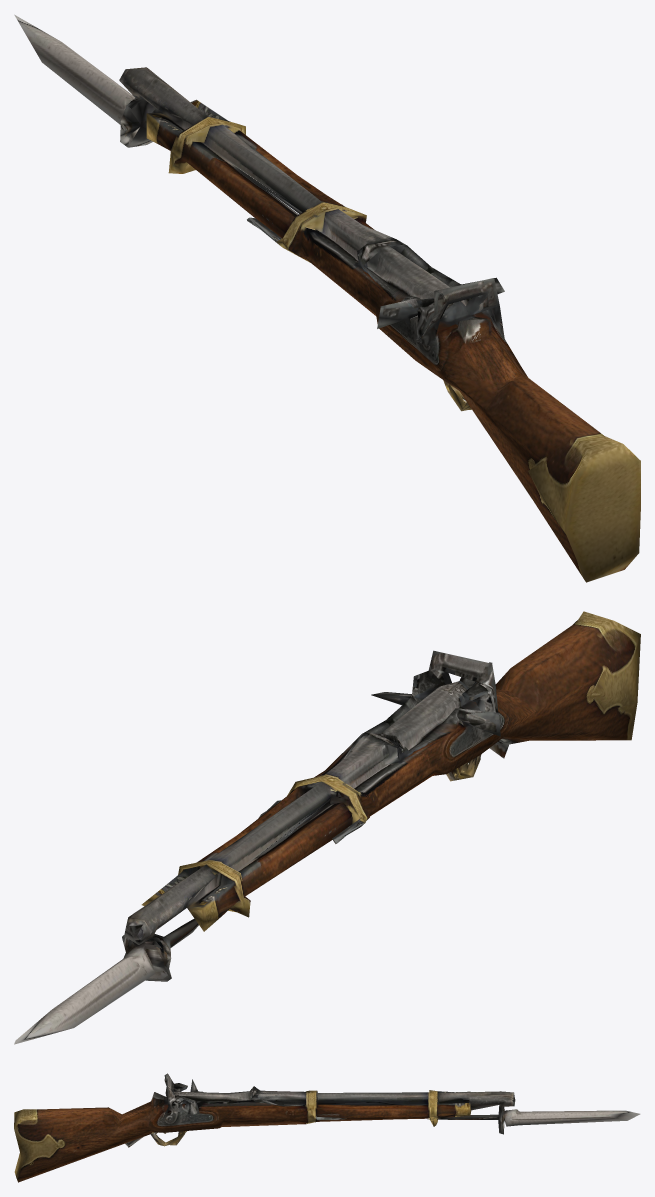
The model's file is infantry_base_musket.fbx.
The picture shows the model from 3 angles, top to bottom: view 1: azimuth 30°, elevation 25°; view 2: azimuth 150°, elevation 25°; view 3: azimuth 270°, elevation 25°; orthographic projection. The views are drawn at different scales.
Parts seen in each view (by area): view 1: tripo_node_33f0ceb0-8799-4e65-b5e0-80249bb91562; view 2: tripo_node_33f0ceb0-8799-4e65-b5e0-80249bb91562; view 3: tripo_node_33f0ceb0-8799-4e65-b5e0-80249bb91562.
Part boxes in pixels (bbox=[...]): tripo_node_33f0ceb0-8799-4e65-b5e0-80249bb91562: bbox=[14, 14, 640, 582]; tripo_node_33f0ceb0-8799-4e65-b5e0-80249bb91562: bbox=[14, 611, 640, 1044]; tripo_node_33f0ceb0-8799-4e65-b5e0-80249bb91562: bbox=[14, 1073, 640, 1182].
Size of the model in its own units: 12.02 by 16.96 by 99.08.
1 material, 1 textured.
